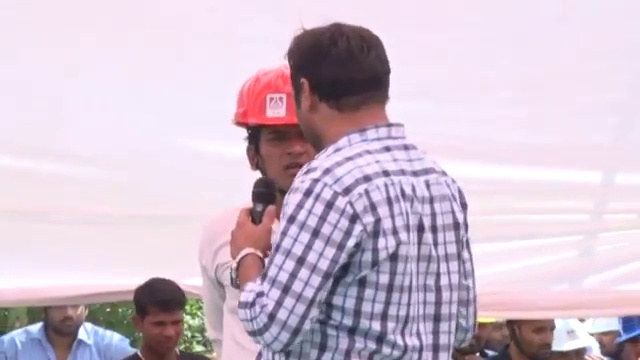helmet: (231, 72, 315, 132), (550, 319, 592, 354), (612, 315, 640, 344), (586, 316, 622, 336)
helmet_off: (287, 21, 399, 153), (131, 276, 188, 359), (39, 301, 91, 341), (505, 319, 554, 360)
helmet_on: (231, 72, 316, 189), (586, 316, 621, 356), (612, 316, 640, 360)
person: (231, 18, 478, 360), (209, 146, 292, 332), (5, 301, 137, 360)
